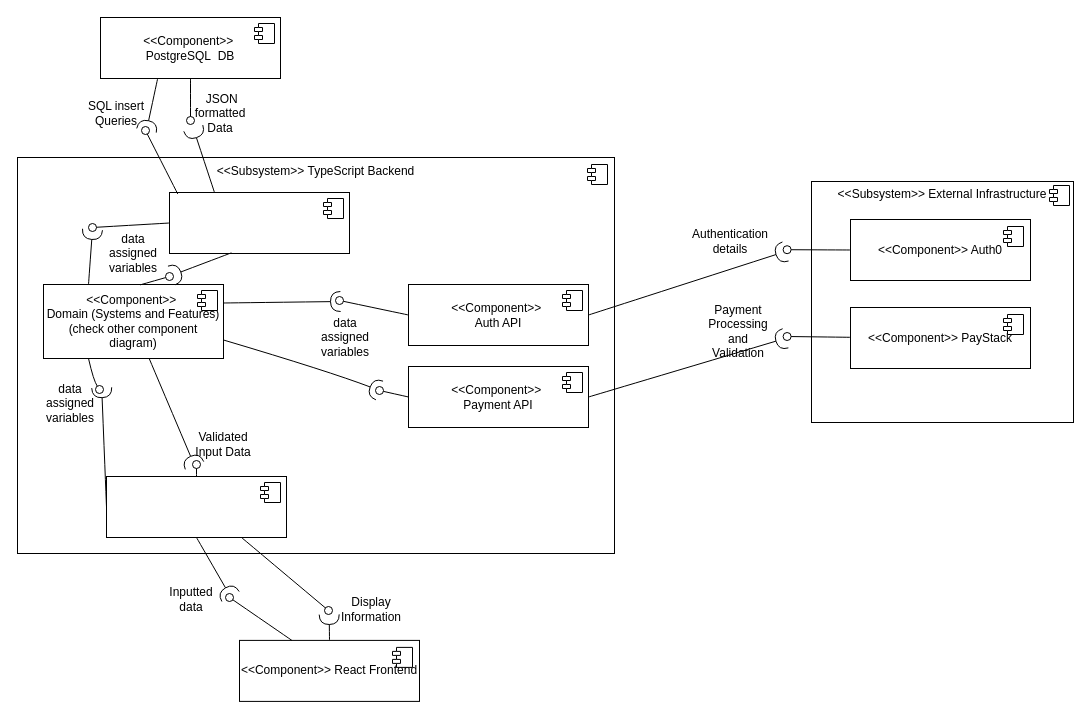
Image size: 1091x719. Some labels were removed from this diagram. The shapes that lost their labels are listed below. From the top down, each one's centre as x and y in pixels, then its label:
At (x=259, y=223): "<<Component>> Database API".
At (x=196, y=507): "<<Component>> Frontend API".
